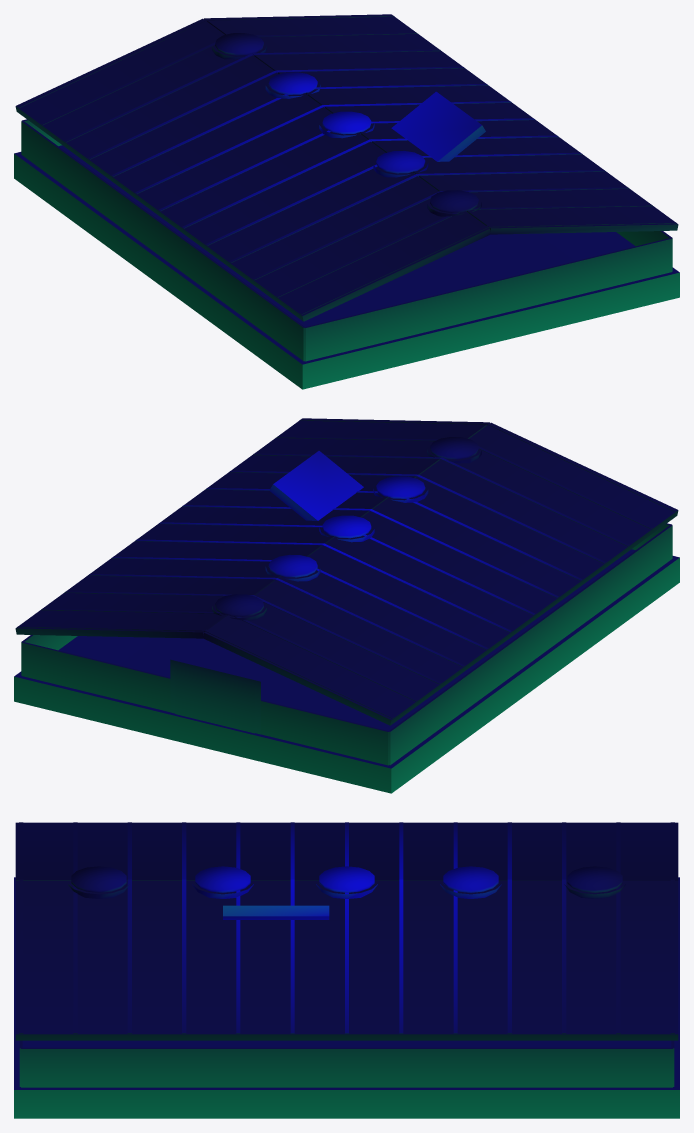
File: greenhouse_damaged.glb
The picture shows the model from 3 angles, top to bottom: view 1: azimuth 30°, elevation 25°; view 2: azimuth 150°, elevation 25°; view 3: azimuth 270°, elevation 25°; orthographic projection. The views are drawn at different scales.
Visible parts, largest first — view 1: lod0; view 2: lod0; view 3: lod0.
Boxes of the visible parts, x1,y1,x2,y2 form: lod0: (14,14,679,389); lod0: (14,418,679,793); lod0: (14,822,679,1118).
Size of what is drawn, in the model's own units: 14.2 by 4.75 by 18.8.
